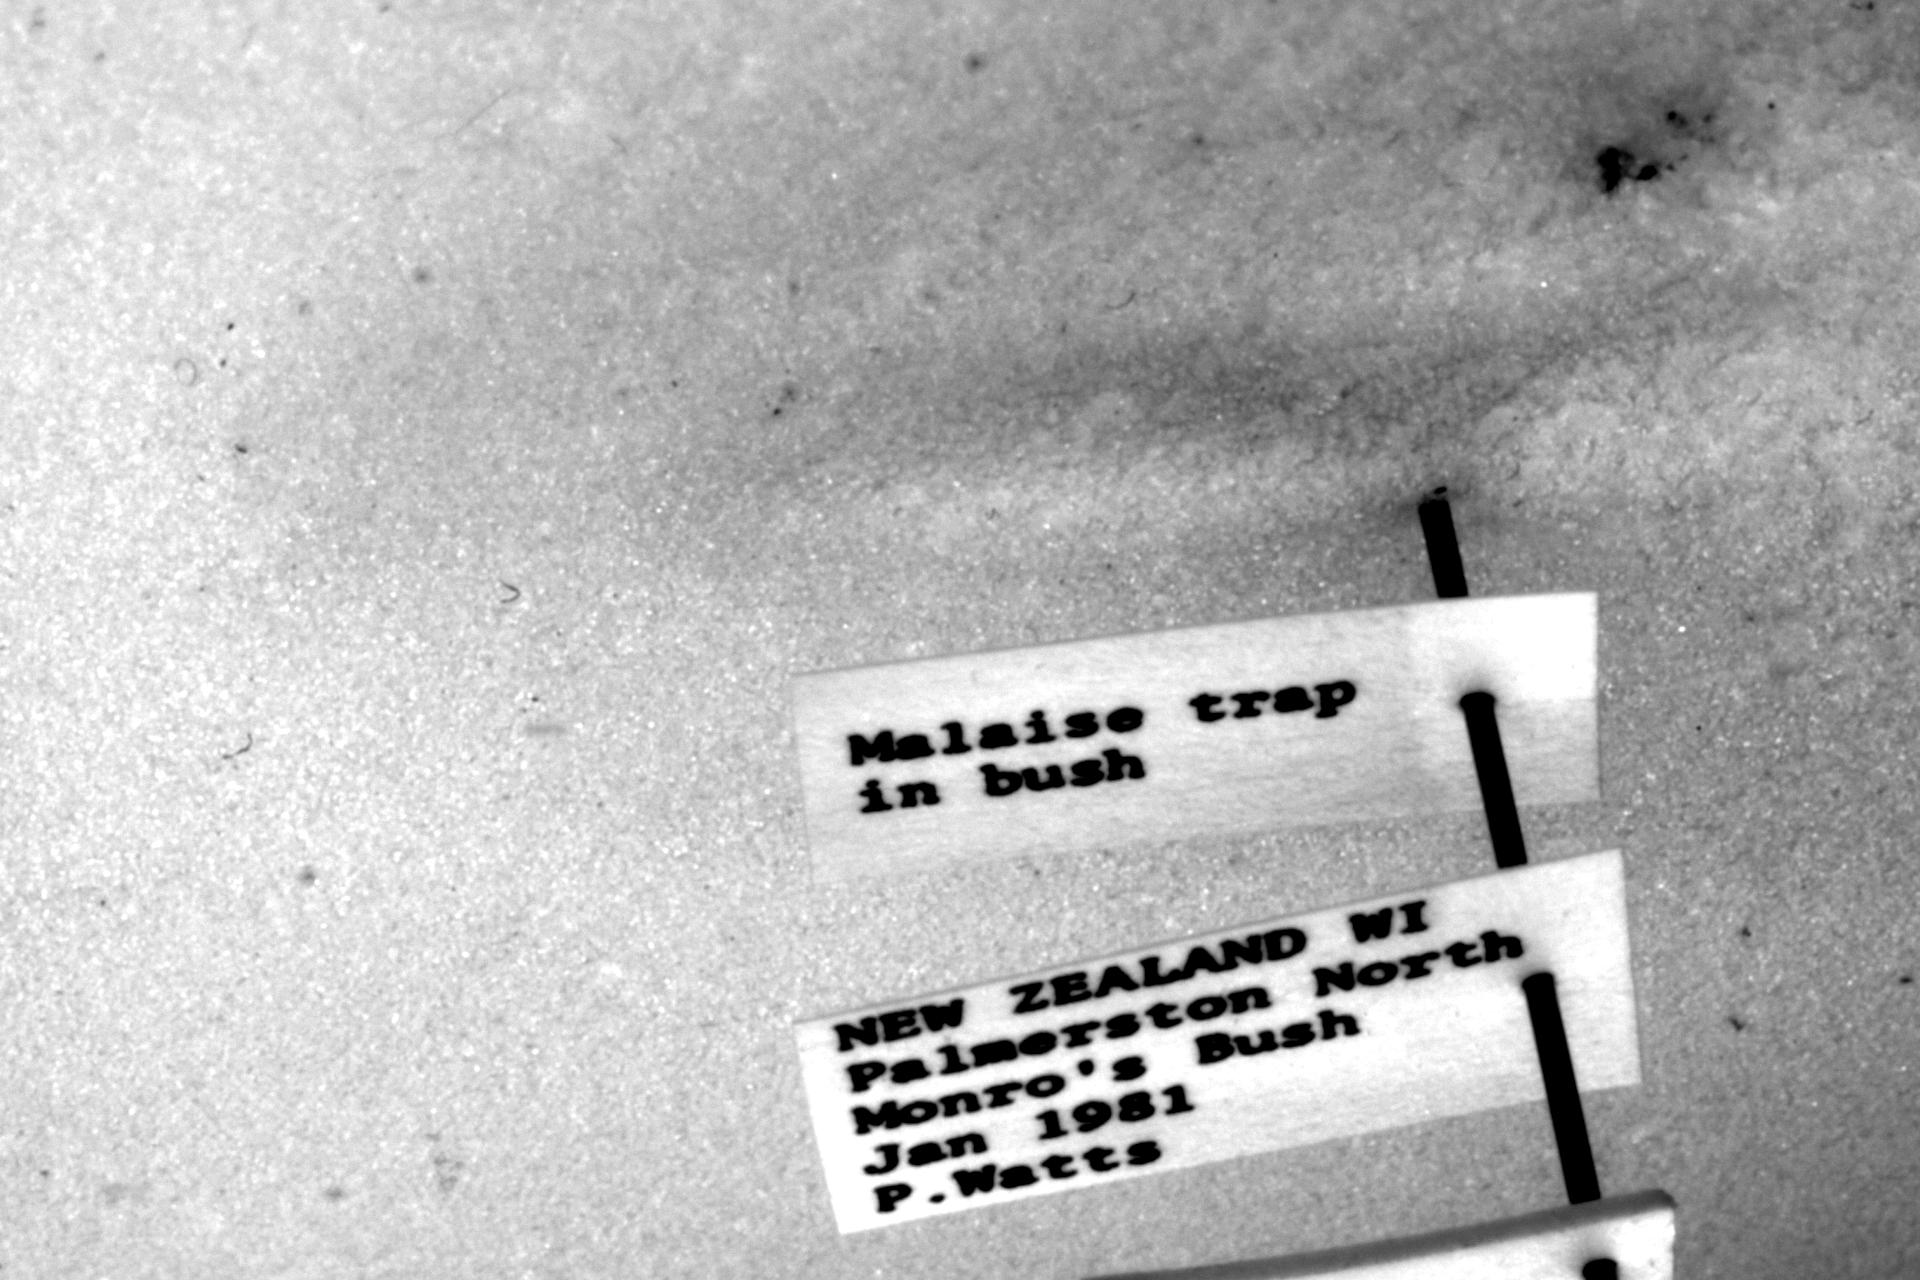typed_label: (794, 851, 1639, 1234), (794, 593, 1597, 881)
